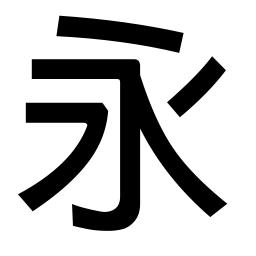D: (54, 11, 185, 53)
HSZ: (108, 56, 142, 90)
Hs: (30, 56, 87, 82)
Ne: (196, 186, 231, 221)
PNc: (140, 98, 190, 137)
PZe: (15, 181, 46, 213)
Ps: (199, 54, 228, 89)
SG: (69, 200, 143, 232)
Sm: (117, 141, 143, 179)
TPZ: (76, 101, 109, 145)
Ts: (24, 98, 59, 125)
